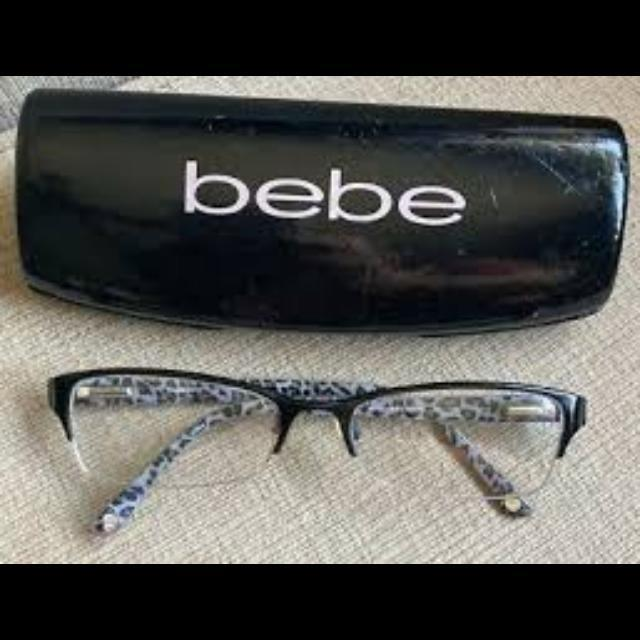glasses: (46, 368, 590, 538)
